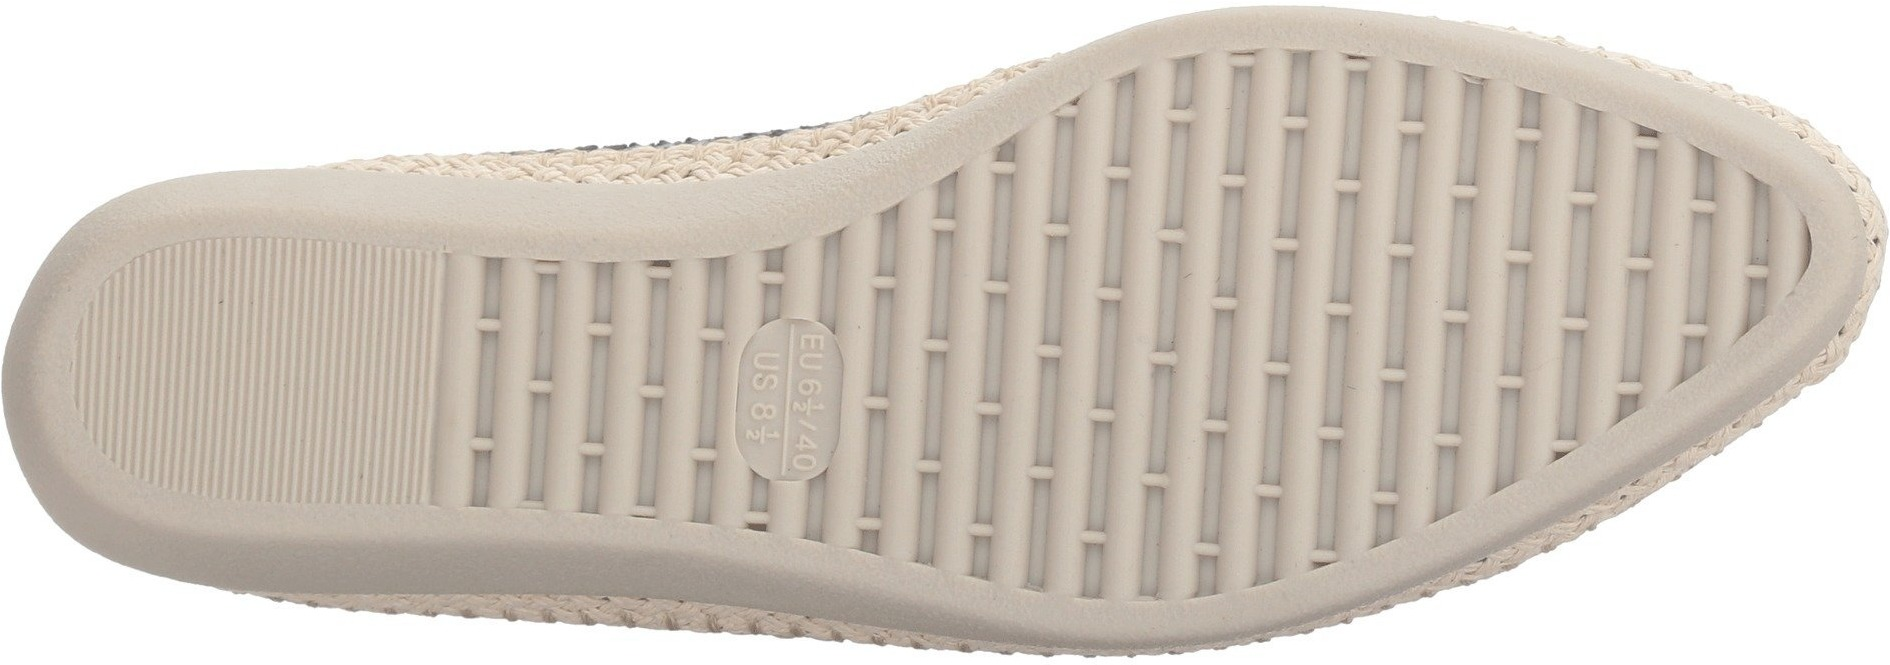other: (164, 252, 403, 493)
text: (735, 358, 837, 461)
